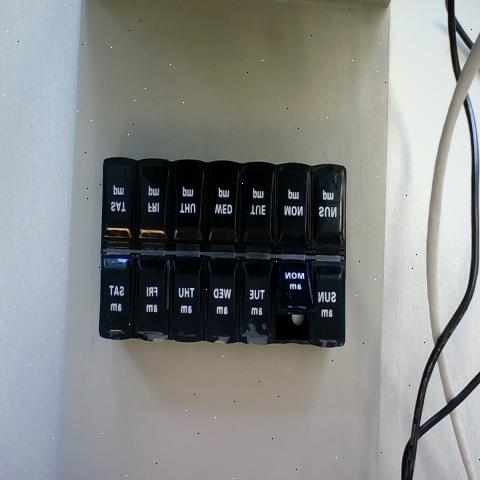FRI-am: (138, 261, 170, 340)
FRI-pm: (136, 163, 168, 236)
MON-pm: (276, 167, 310, 248)
Open: (277, 285, 316, 341)
PillBox: (85, 132, 362, 386)
SAT-am: (100, 253, 137, 335)
SAT-pm: (104, 159, 136, 238)
SUN-am: (314, 264, 346, 346)
SUN-pm: (312, 164, 345, 250)
THU-am: (170, 260, 206, 341)
THU-pm: (172, 161, 204, 238)
TUE-am: (240, 262, 274, 346)
TUE-pm: (243, 163, 273, 246)
WED-am: (205, 262, 238, 342)
WED-pm: (207, 163, 240, 243)
